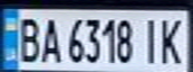1: (100, 15, 118, 64)
3: (81, 15, 103, 64)
6: (63, 15, 84, 64)
8: (115, 15, 139, 64)
A: (36, 14, 63, 63)
B: (12, 13, 42, 64)
I: (139, 15, 163, 64)
K: (154, 14, 190, 65)
